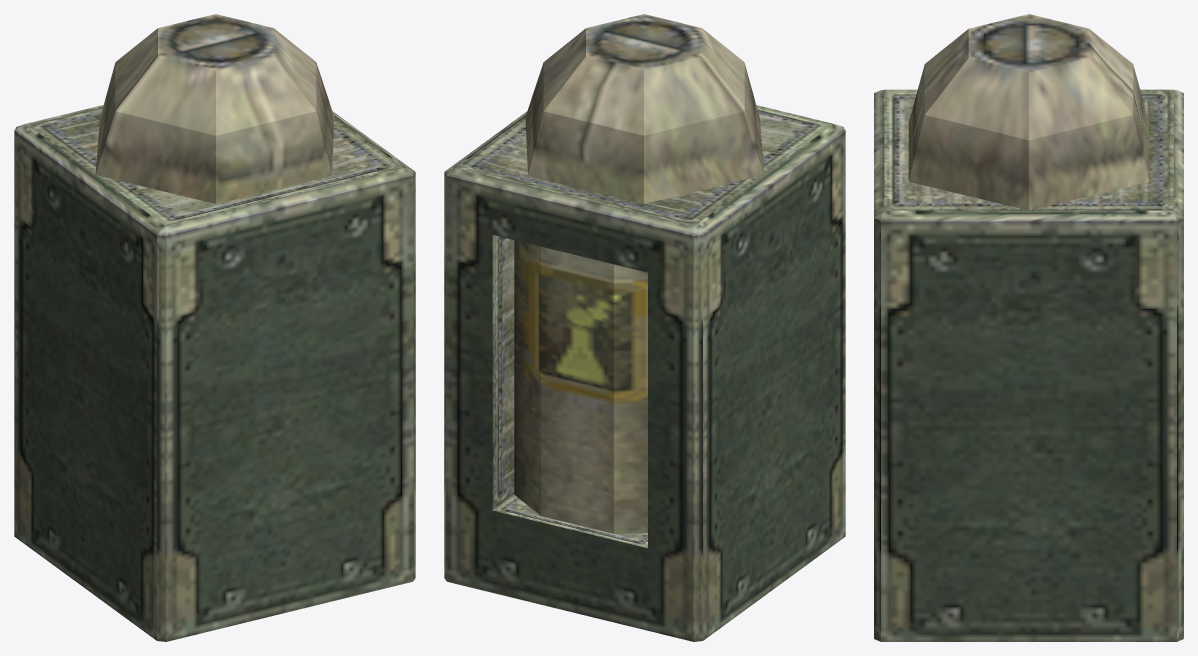
The model's file is con_man_chemicals_lg_l0.fbx.
The picture shows the model from 3 angles, left to right: view 1: azimuth 30°, elevation 25°; view 2: azimuth 150°, elevation 25°; view 3: azimuth 270°, elevation 25°; orthographic projection. The views are drawn at different scales.
Parts seen in each view (by area): view 1: mesh_node; view 2: mesh_node; view 3: mesh_node.
Boxes of the visible parts, x1,y1,x2,y2 form: mesh_node: (14, 14, 415, 641); mesh_node: (444, 14, 845, 641); mesh_node: (874, 14, 1183, 641).
Bounding box in the file's own units: 0.8507 × 1.62 × 0.8507.
